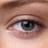eye: (21, 21, 35, 31)
